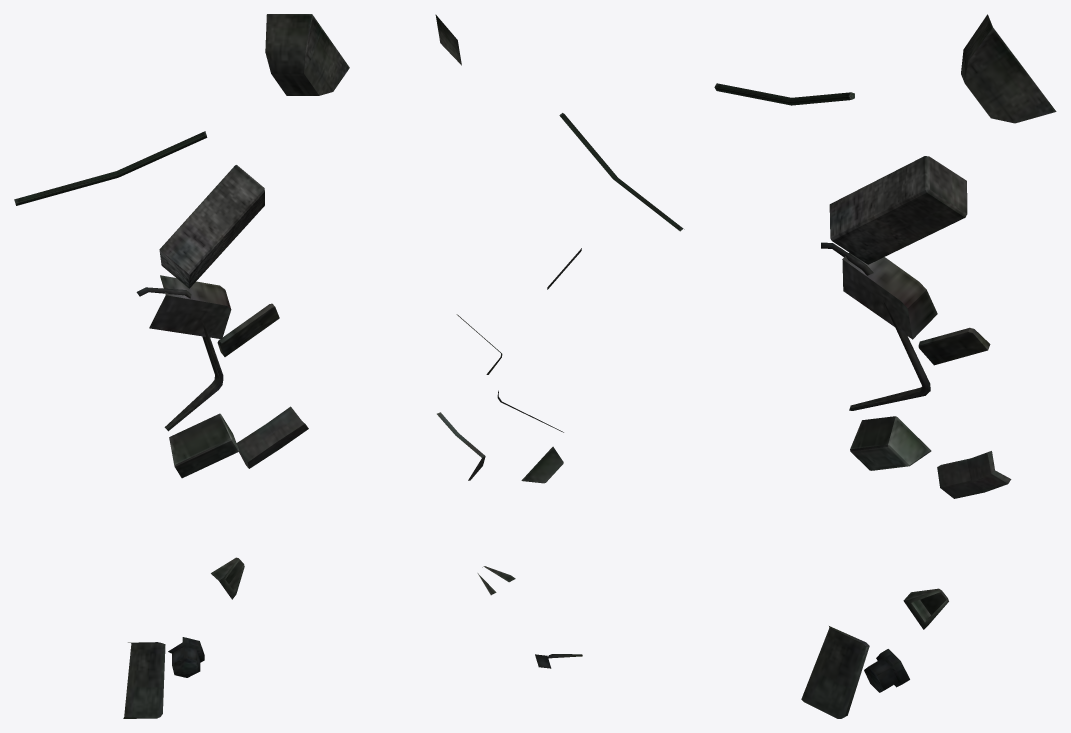
File: vehicle_uni_carrier_burned_prop2.glb
3 renders of one model, left to right at view 1: azimuth 30°, elevation 25°; view 2: azimuth 150°, elevation 25°; view 3: azimuth 330°, elevation 25°, orthographic. The views are drawn at different scales.
Bounding box in the file's own units: 62.11 × 124 × 14.41.
1 material, 1 textured.
